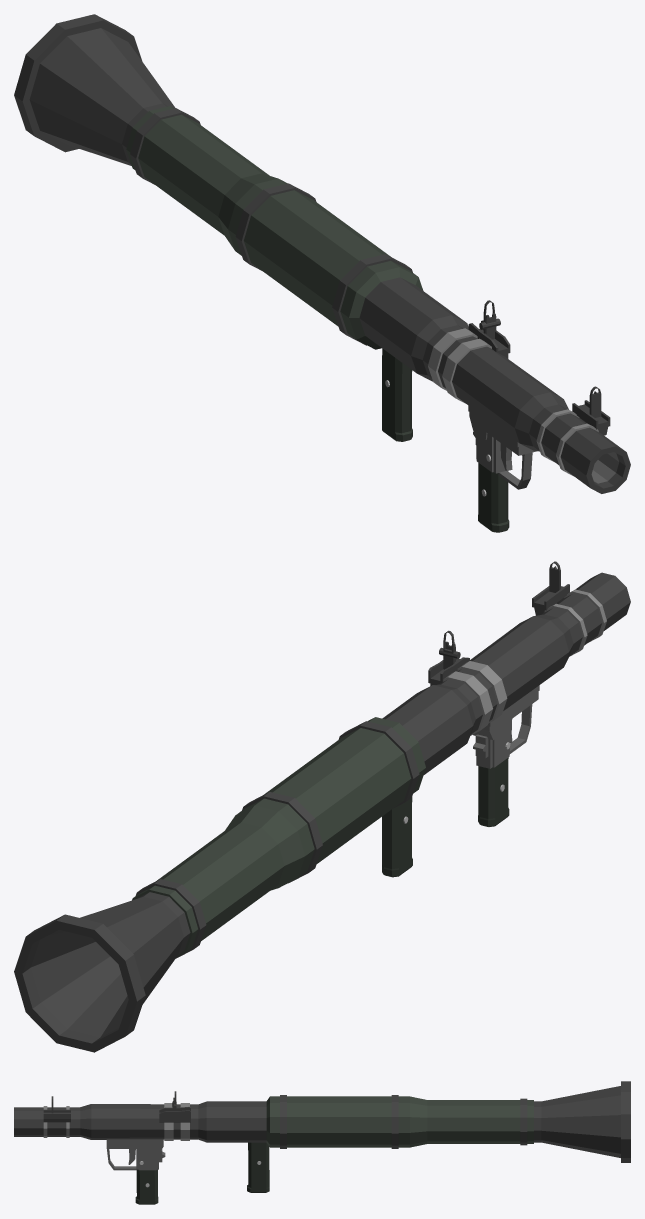
The model's file is AsimovRocketLauncherUnarmed.fbx.
3 renders of one model, top to bottom at view 1: azimuth 30°, elevation 25°; view 2: azimuth 150°, elevation 25°; view 3: azimuth 270°, elevation 25°, orthographic. The views are drawn at different scales.
Parts seen in each view (by area): view 1: RocketLauncherUnarmed; view 2: RocketLauncherUnarmed; view 3: RocketLauncherUnarmed.
Part boxes in pixels (x1,y1,x2,y2): RocketLauncherUnarmed: (14, 14, 630, 532); RocketLauncherUnarmed: (14, 561, 630, 1052); RocketLauncherUnarmed: (14, 1081, 630, 1204).
Size of the model in its own units: 65.12 by 102 by 488.
